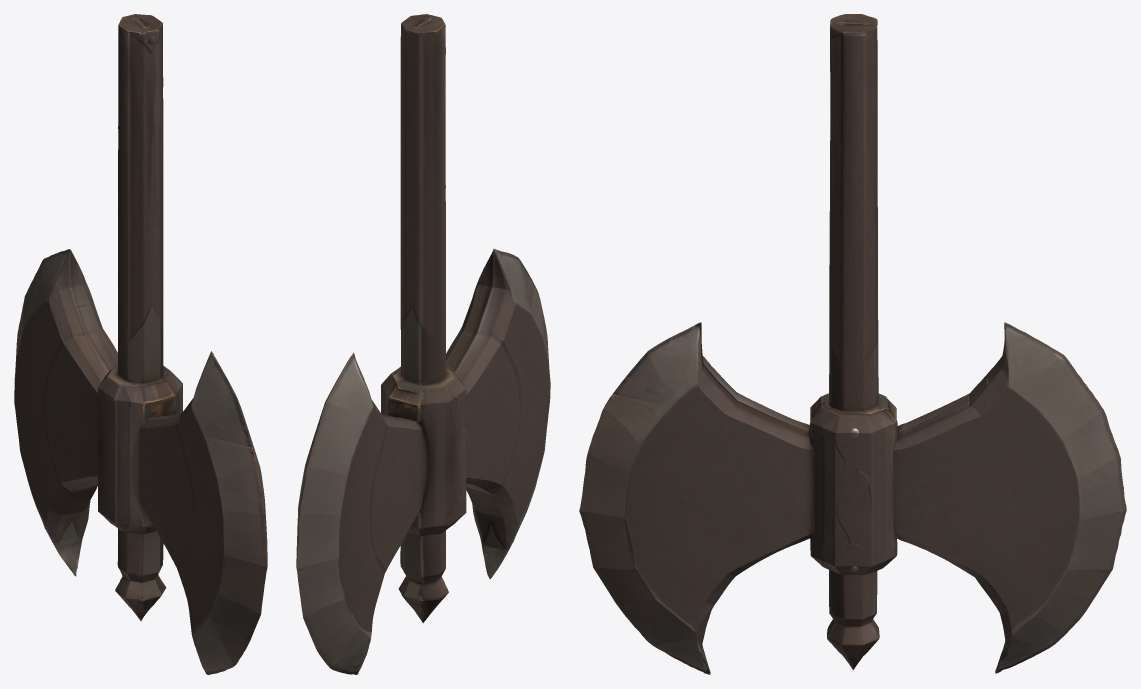
The model's file is Battleforge_Axe_0521022618_texture.fbx.
3 views of the same model, side by side, from view 1: azimuth 30°, elevation 25°; view 2: azimuth 150°, elevation 25°; view 3: azimuth 270°, elevation 25° (orthographic). The views are drawn at different scales.
Visible parts, largest first — view 1: temp; view 2: temp; view 3: temp.
Boxes of the visible parts, left/top/right/bottom form: temp: left=14, top=14, right=267, bottom=674; temp: left=296, top=14, right=550, bottom=674; temp: left=579, top=14, right=1126, bottom=674.
Size of the model in its own units: 24.06 by 200 by 152.
Materials: 1 (1 with a texture image).
